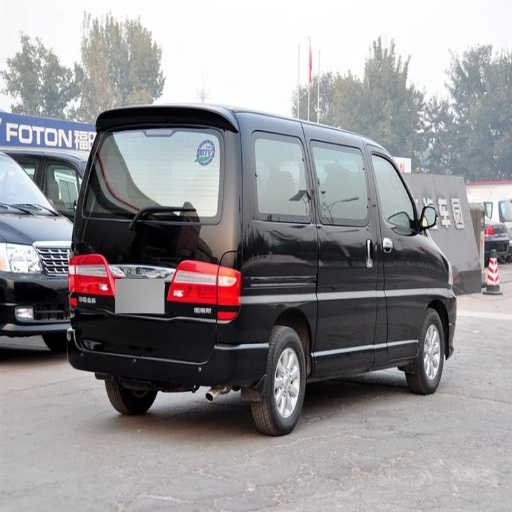back_bumper: (65, 308, 244, 378)
back_left_light: (66, 246, 111, 307)
back_right_door: (266, 139, 380, 365)
trunk: (81, 260, 221, 356), (239, 277, 317, 377)
